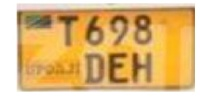T: (56, 14, 81, 48)
